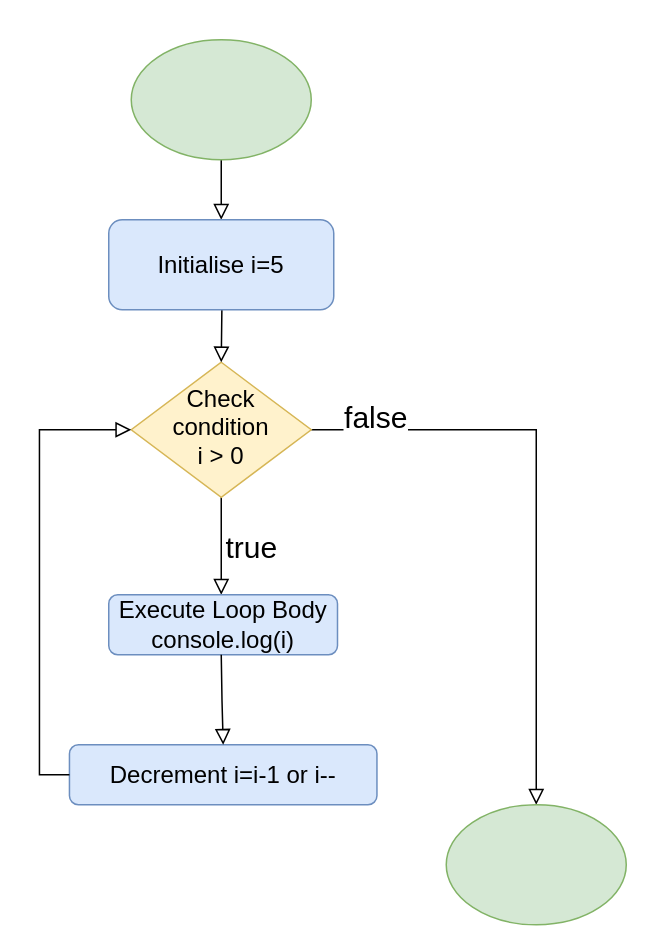
Some shapes in this 654 by 951 pixel diagram are drawn without their labels. The centre of each missing label's shape, as x and y in pixels:
"End" goes at [535,864].
"Start" goes at [220,99].
